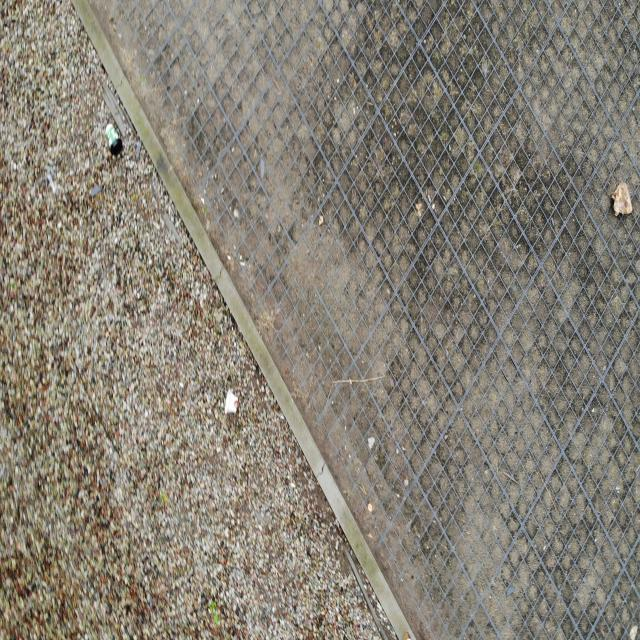rubbish: (610, 178, 632, 217), (102, 121, 121, 158), (223, 387, 239, 416)
